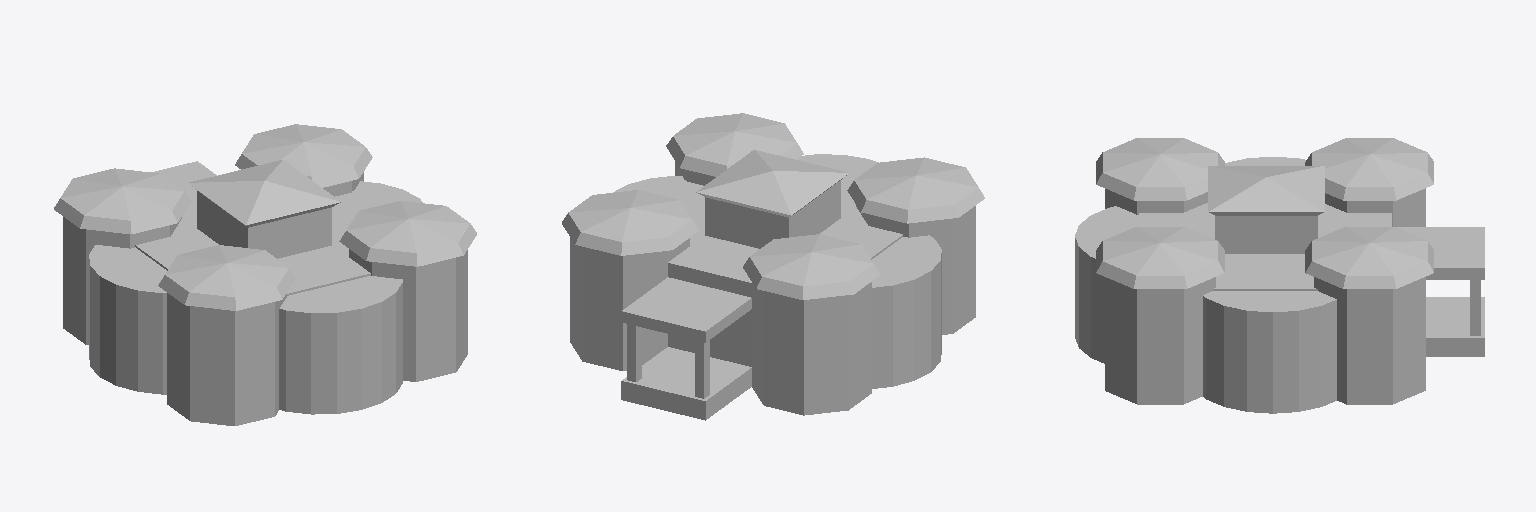
The model's file is minimalNewGallery.obj.
3 views of the same model, side by side, from view 1: azimuth 30°, elevation 25°; view 2: azimuth 150°, elevation 25°; view 3: azimuth 270°, elevation 25° (orthographic).
Parts seen in each view (by area): view 1: Cylinder.005_Cylinder.008; view 2: Cylinder.005_Cylinder.008; view 3: Cylinder.005_Cylinder.008.
Part boxes in pixels (x1,y1,x2,y2): Cylinder.005_Cylinder.008: (54, 124, 476, 425); Cylinder.005_Cylinder.008: (562, 113, 984, 420); Cylinder.005_Cylinder.008: (1075, 138, 1484, 413).
Size of the model in its own units: 3.97 by 1.89 by 4.41.